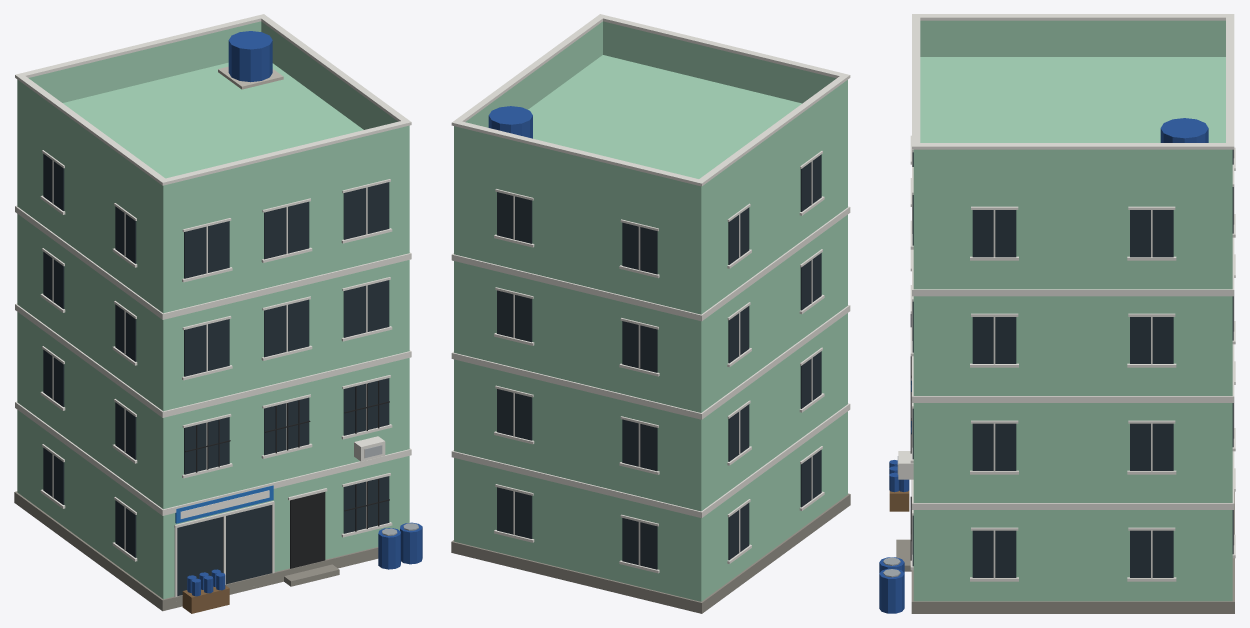
File: BAY_F_Tower_G.glb
3 views of the same model, side by side, from view 1: azimuth 30°, elevation 25°; view 2: azimuth 150°, elevation 25°; view 3: azimuth 270°, elevation 25° (orthographic). The views are drawn at different scales.
Parts seen in each view (by area): view 1: BAY_F_Tower_G; view 2: BAY_F_Tower_G; view 3: BAY_F_Tower_G.
Boxes of the visible parts, box(x1,y1,x2,y2) form: BAY_F_Tower_G: box(14, 14, 422, 613); BAY_F_Tower_G: box(451, 14, 850, 613); BAY_F_Tower_G: box(879, 14, 1235, 613).
Size of the model in its own units: 7.24 by 11.8 by 8.16.
Materials: 1 (1 with a texture image).
